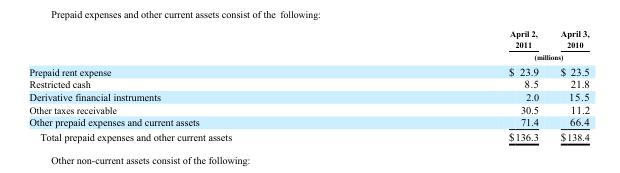table: (28, 28, 589, 142)
table column: (28, 28, 369, 142), (369, 28, 548, 142), (548, 28, 589, 142)
table column header: (28, 28, 589, 62)
table row: (28, 28, 589, 50), (28, 62, 589, 77), (28, 115, 589, 129), (28, 89, 589, 102), (28, 102, 589, 115), (28, 129, 589, 142), (28, 50, 589, 62), (28, 77, 589, 89)
table spanning cell: (369, 50, 589, 62)
